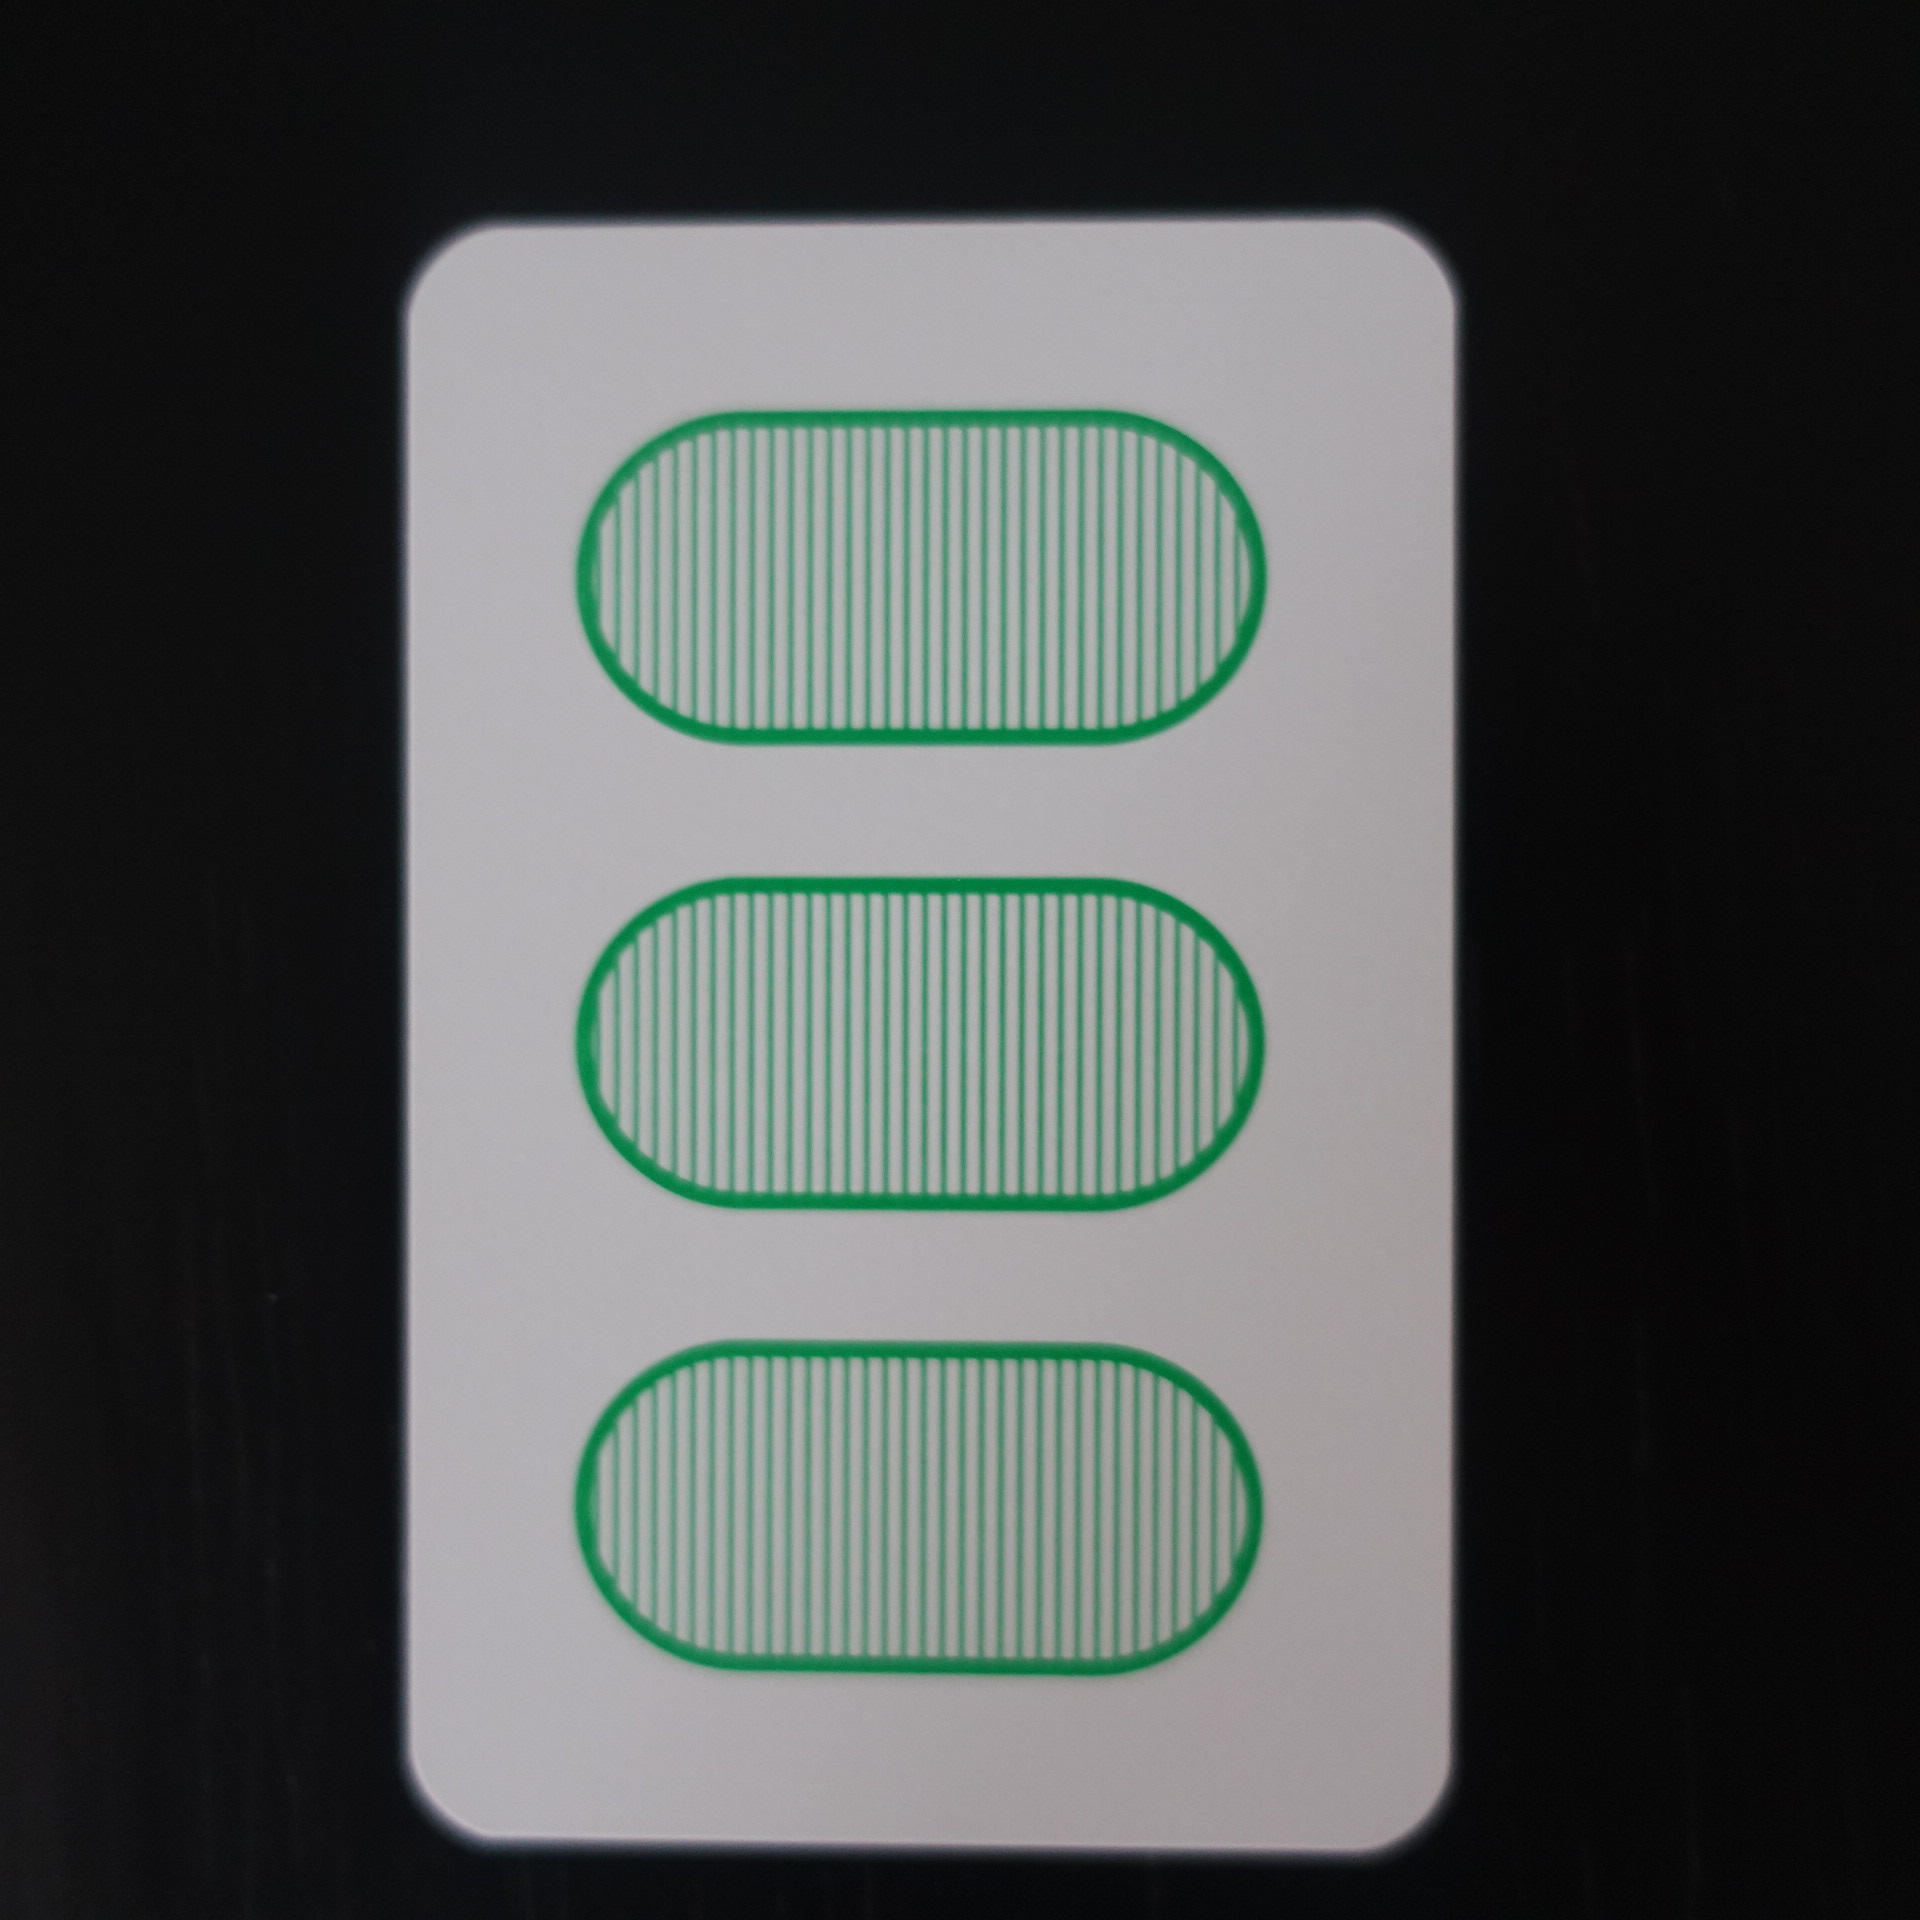c-3-h-o-g: (375, 192, 1512, 1881)
